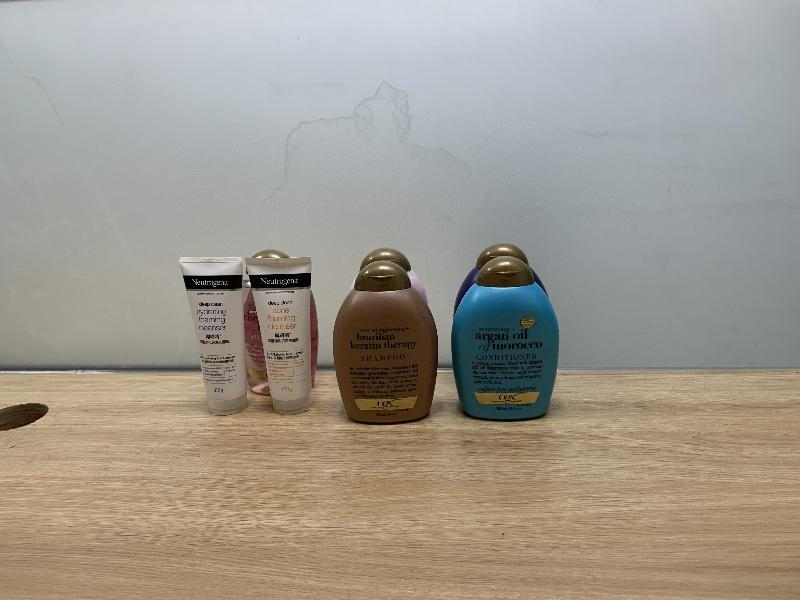AcneFoamingCleanser: (245, 255, 312, 415)
ArganOilOfMorocco_Conditioner: (451, 256, 559, 420)
BrazilianKeratinTherapy_Shampoo: (333, 260, 438, 424)
HydratingFoamingCleanser: (179, 256, 249, 415)
